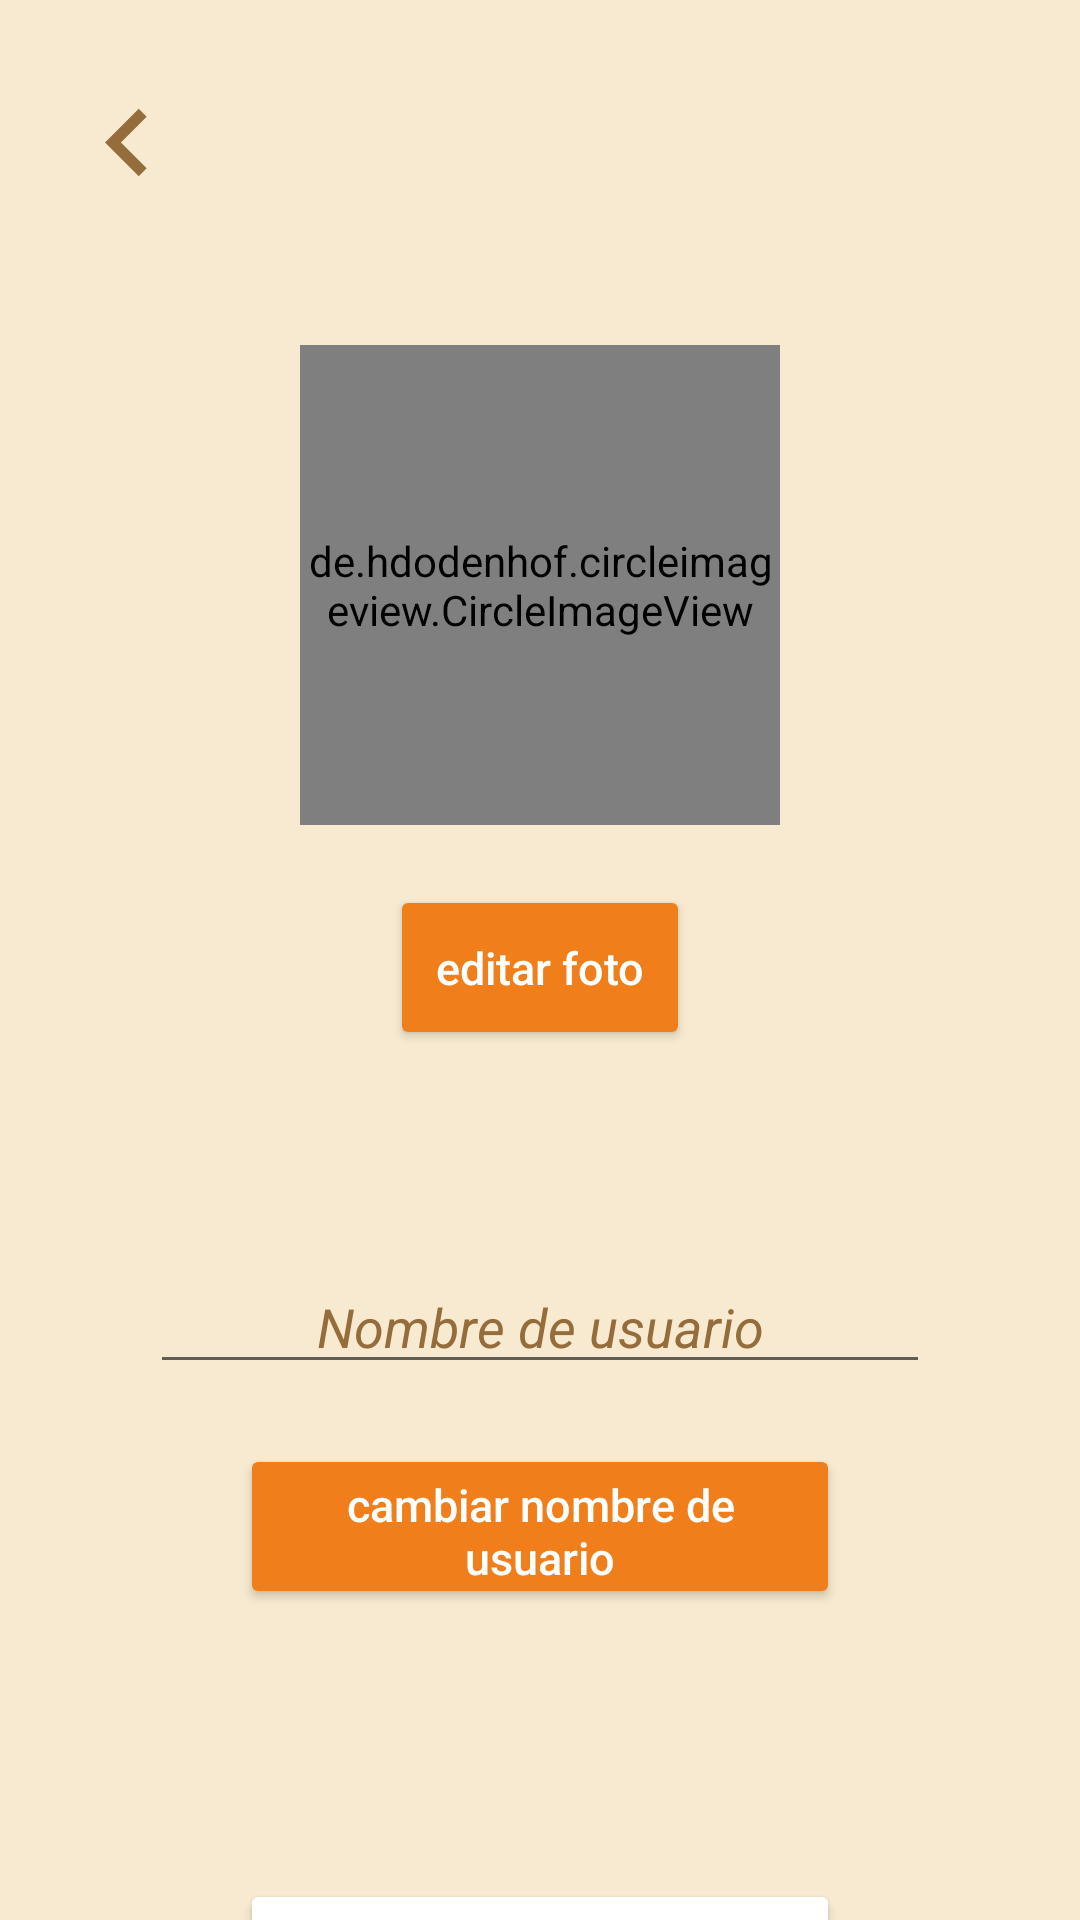

Icon click points for this 1080 × 1920 phone screenshot, format point (x, y):
navigate before: point (126, 142)
